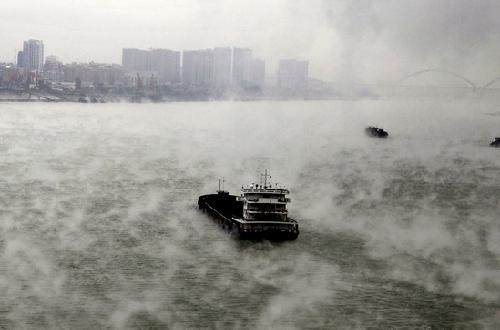boat: (192, 167, 304, 252)
